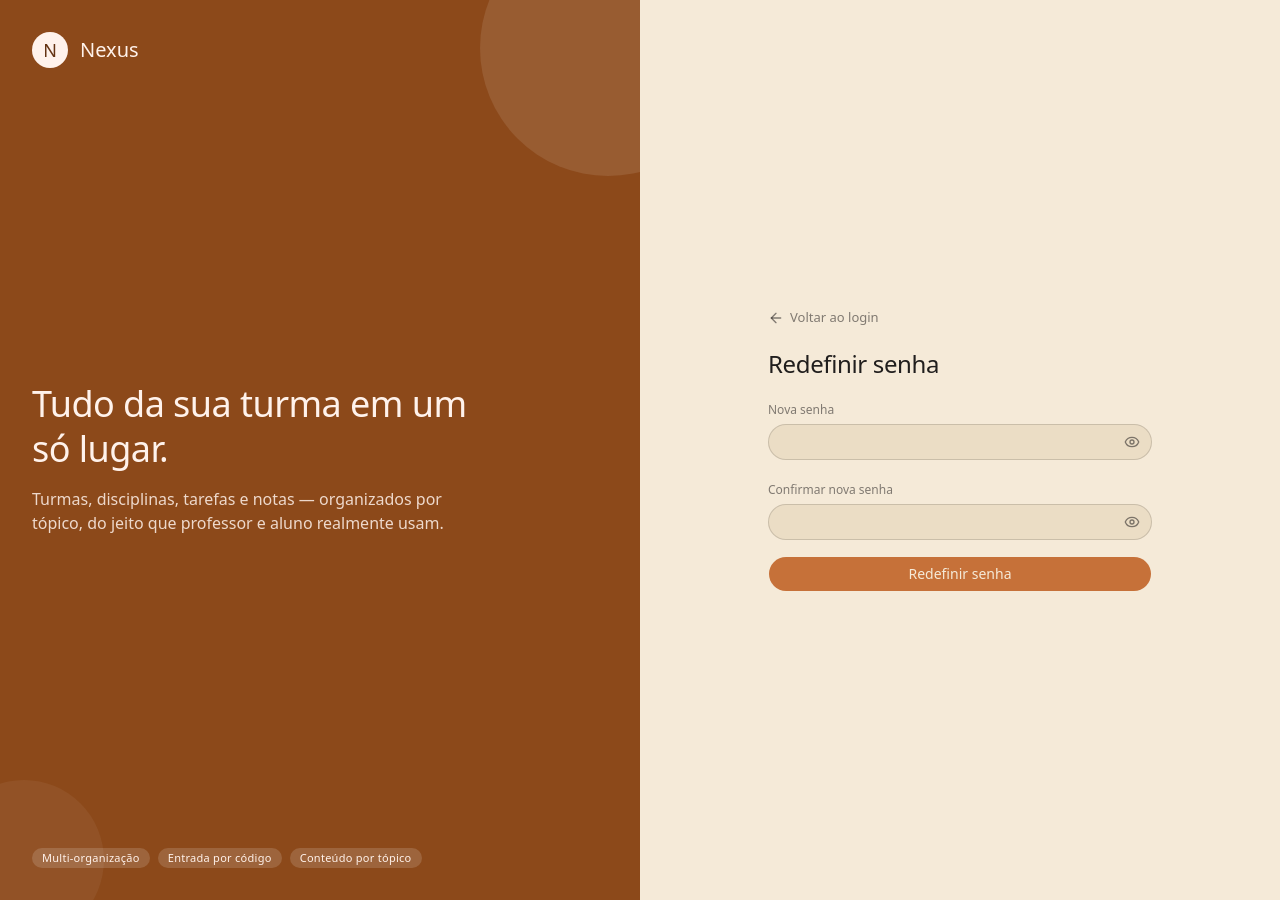
Test: ResetPasswordPage › lists the criteria the password missed instead of a generic failure
The width and height of the screenshot is (1280, 900).
Type "senhafraca" into the password field labelled "Nova senha". click: (960, 442)
box: [768, 424, 1152, 460]
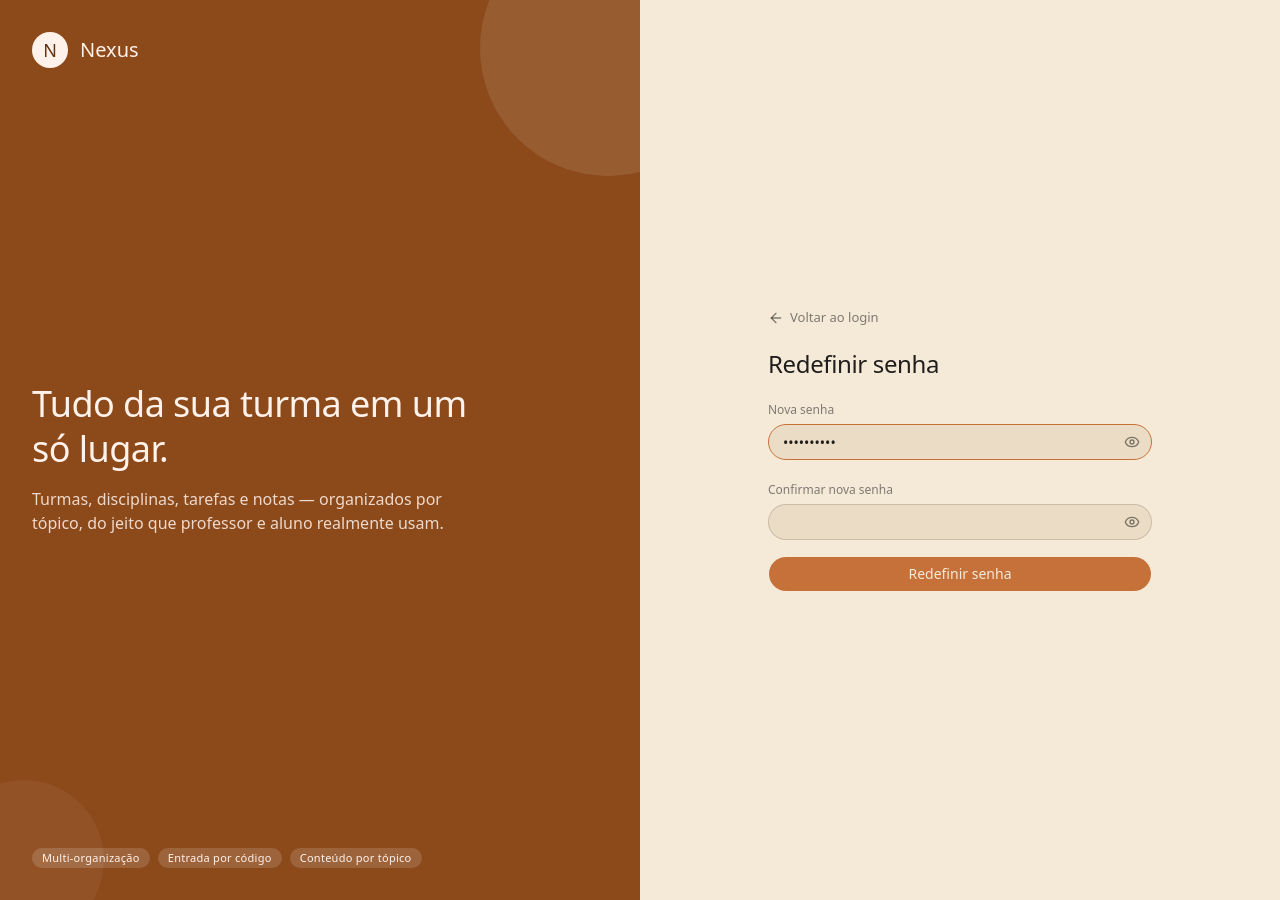
Type "senhafraca" into the password field labelled "Confirmar nova senha". click: (960, 522)
box: [768, 504, 1152, 540]
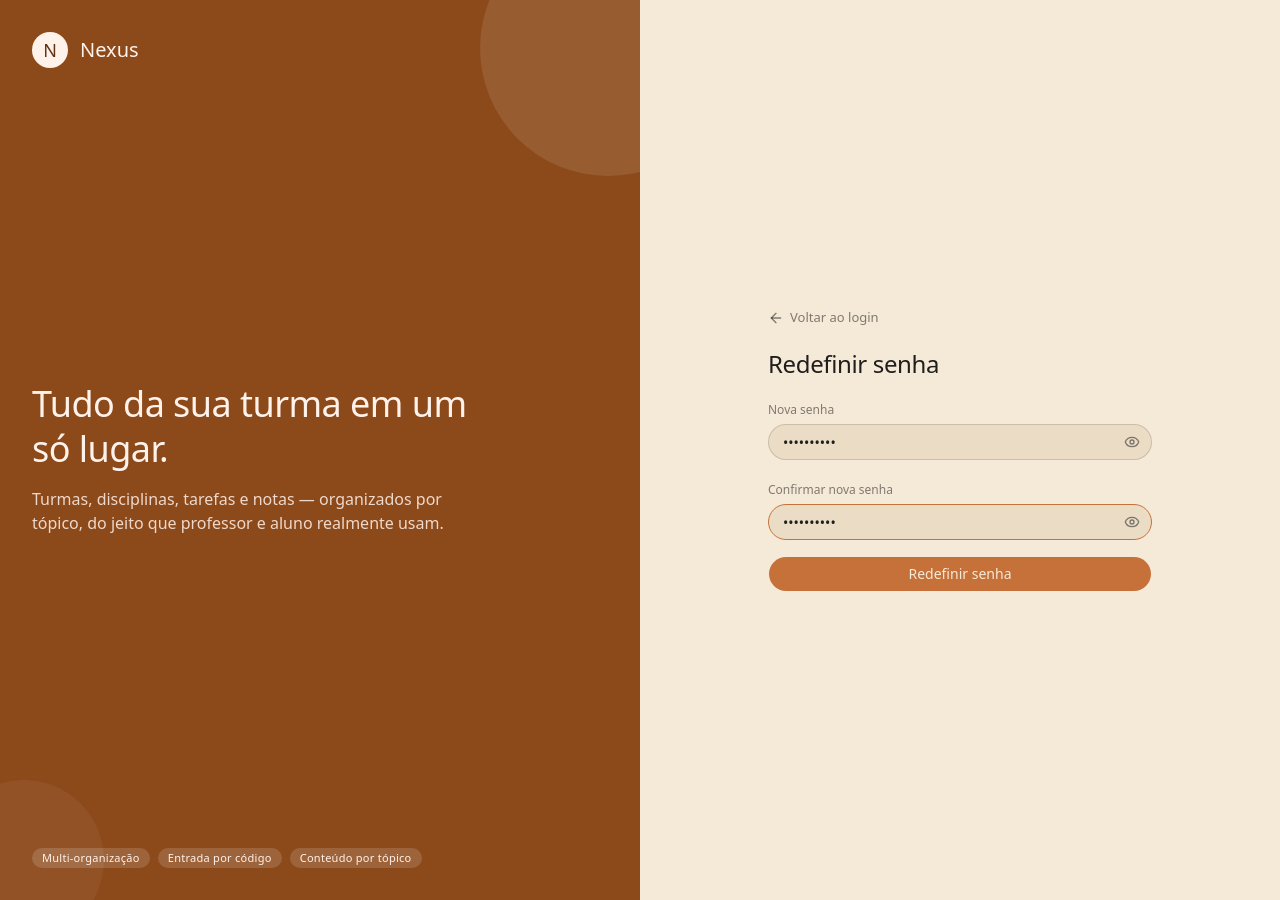
Click the button "Redefinir senha". click: (960, 574)
box: [768, 556, 1152, 592]
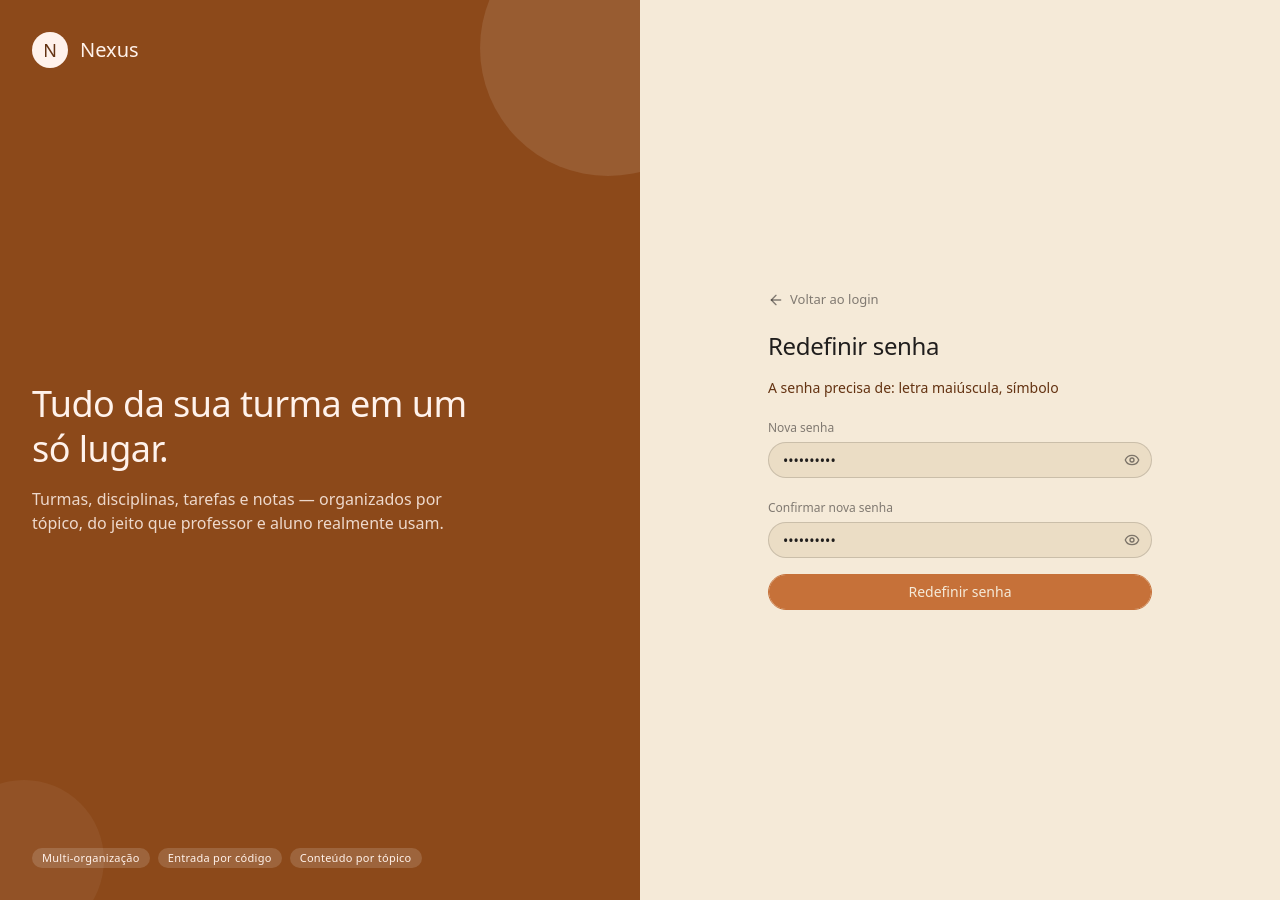
Now the message reads "A senha precisa de: letra maiúscula, símbolo", box [768, 378, 1059, 397]
